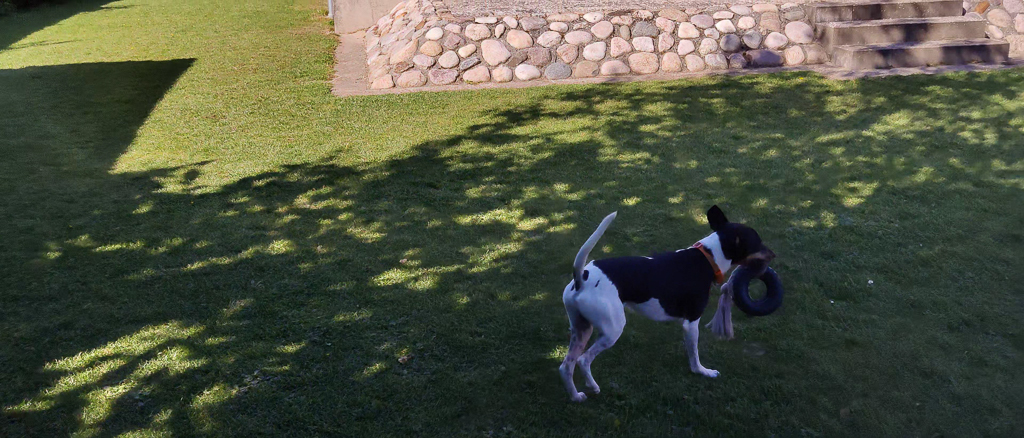Dog: (539, 195, 790, 414)
